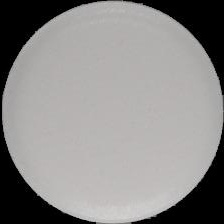59148-010: (0, 0, 224, 224)
